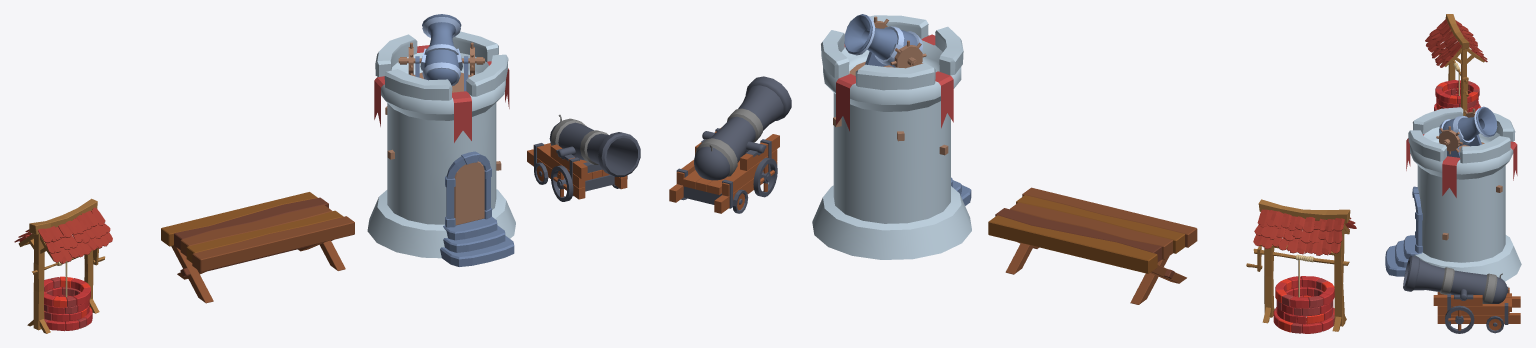
Rendered from Small Building.fbx.
3 renders of one model, left to right at view 1: azimuth 30°, elevation 25°; view 2: azimuth 150°, elevation 25°; view 3: azimuth 270°, elevation 25°, orthographic. The views are drawn at different scales.
Visible parts, largest first — view 1: Tower, Table, Well, Cannon; view 2: Tower, Table, Well, Cannon; view 3: Tower, Cannon, Well.
Part boxes in pixels (x1,y1,x2,y2): Tower: [367, 14, 515, 266]; Table: [161, 192, 354, 303]; Well: [14, 198, 112, 333]; Cannon: [527, 114, 640, 201]; Tower: [812, 14, 971, 259]; Table: [988, 187, 1197, 304]; Well: [1246, 199, 1356, 333]; Cannon: [669, 76, 791, 213]; Tower: [1385, 106, 1521, 281]; Cannon: [1403, 255, 1520, 333]; Well: [1425, 14, 1487, 115].
Bounding box in the file's own units: 3174 × 1030 × 784.
